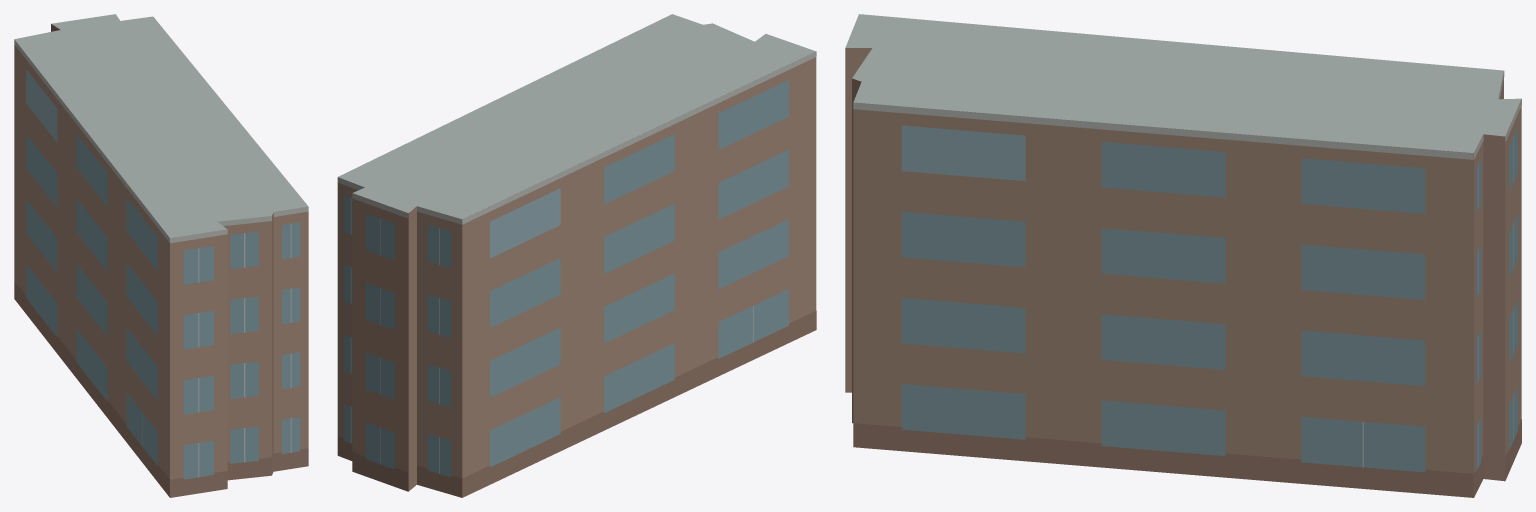
Rendered from survey-upis-32645509.glb.
3 renders of one model, left to right at view 1: azimuth 30°, elevation 25°; view 2: azimuth 150°, elevation 25°; view 3: azimuth 270°, elevation 25°, orthographic. The views are drawn at different scales.
Visible parts, largest first — view 1: survey-upis-32645509.tmp; view 2: survey-upis-32645509.tmp; view 3: survey-upis-32645509.tmp.
Boxes of the visible parts, x1,y1,x2,y2 form: survey-upis-32645509.tmp: [14, 14, 308, 497]; survey-upis-32645509.tmp: [337, 14, 816, 497]; survey-upis-32645509.tmp: [845, 14, 1521, 497].
Size of the model in its own units: 10.83 by 12.5 by 22.24.
